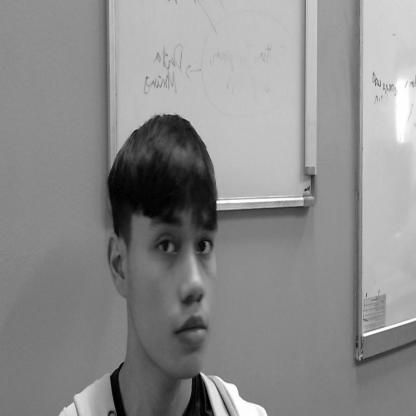Open-Eyes: (148, 202, 222, 270)
